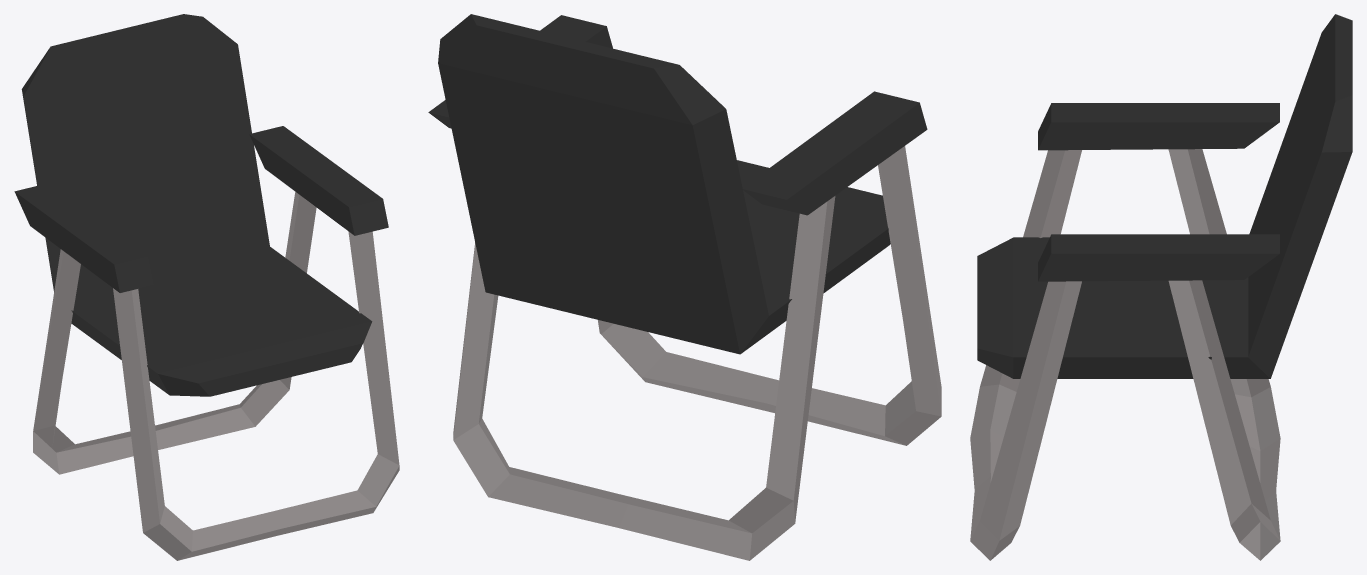
Rendered from chair-folding.glb.
3 renders of one model, left to right at view 1: azimuth 30°, elevation 25°; view 2: azimuth 150°, elevation 25°; view 3: azimuth 270°, elevation 25°, orthographic. The views are drawn at different scales.
Visible parts, largest first — view 1: chair-folding; view 2: chair-folding; view 3: chair-folding.
Part boxes in pixels (x1,y1,x2,y2): chair-folding: (14,14,399,560); chair-folding: (428,14,941,560); chair-folding: (970,14,1352,560).
Size of the model in its own units: 0.6298 by 0.8754 by 0.677.
1 material, 1 textured.
